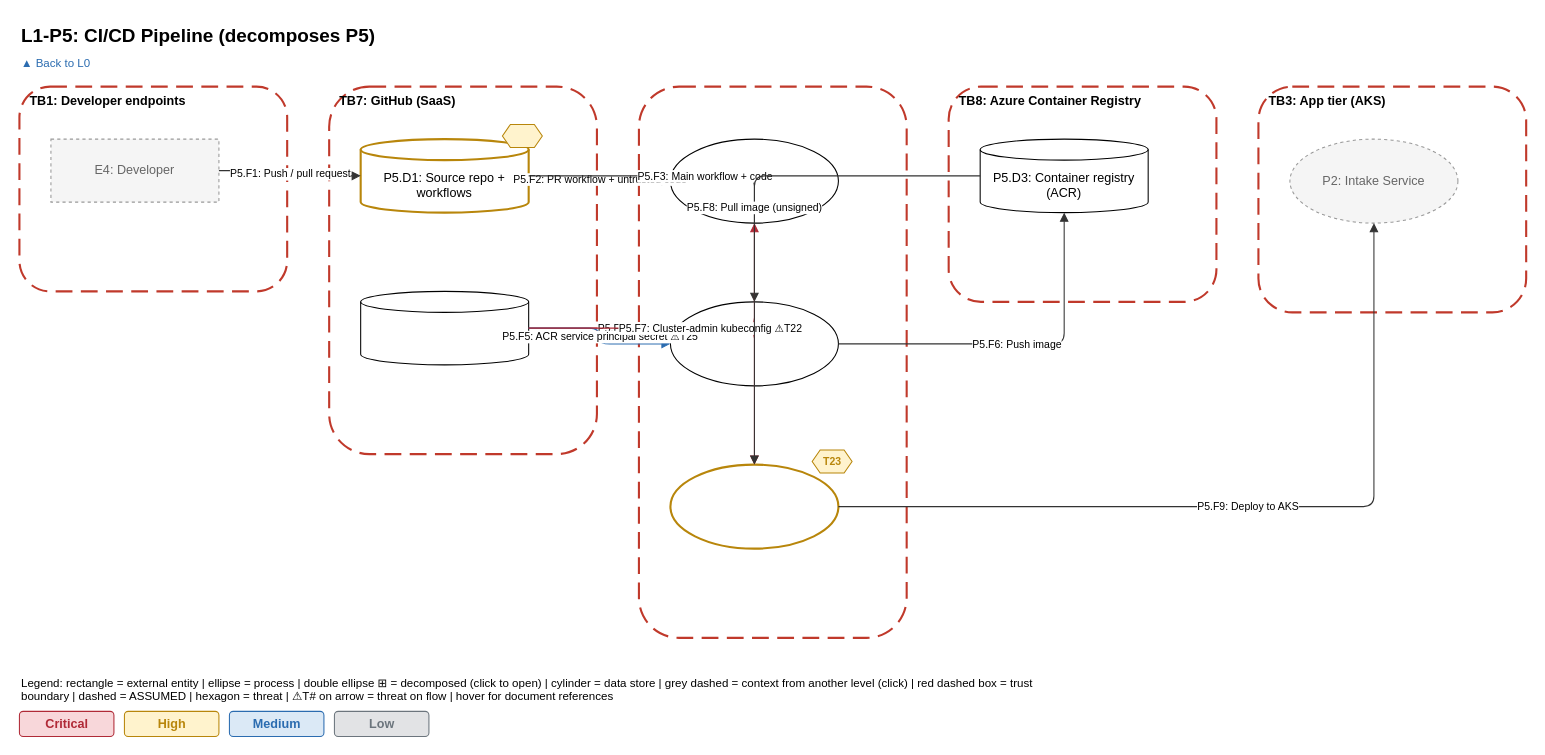
Image size: 1545x755. Some labels were removed from this diagram. Here are the shapes that lost their labels. From the top down, the box of each, then its label:
(501, 123, 542, 148): T24
(669, 138, 838, 223): P5.1: PR build job
(360, 290, 529, 365): P5.D2: Repository secrets
(669, 301, 838, 386): P5.2: Main build job
(637, 85, 907, 638): TB6: Self-hosted runners (shared)
(669, 463, 839, 549): P5.3: Deploy job
